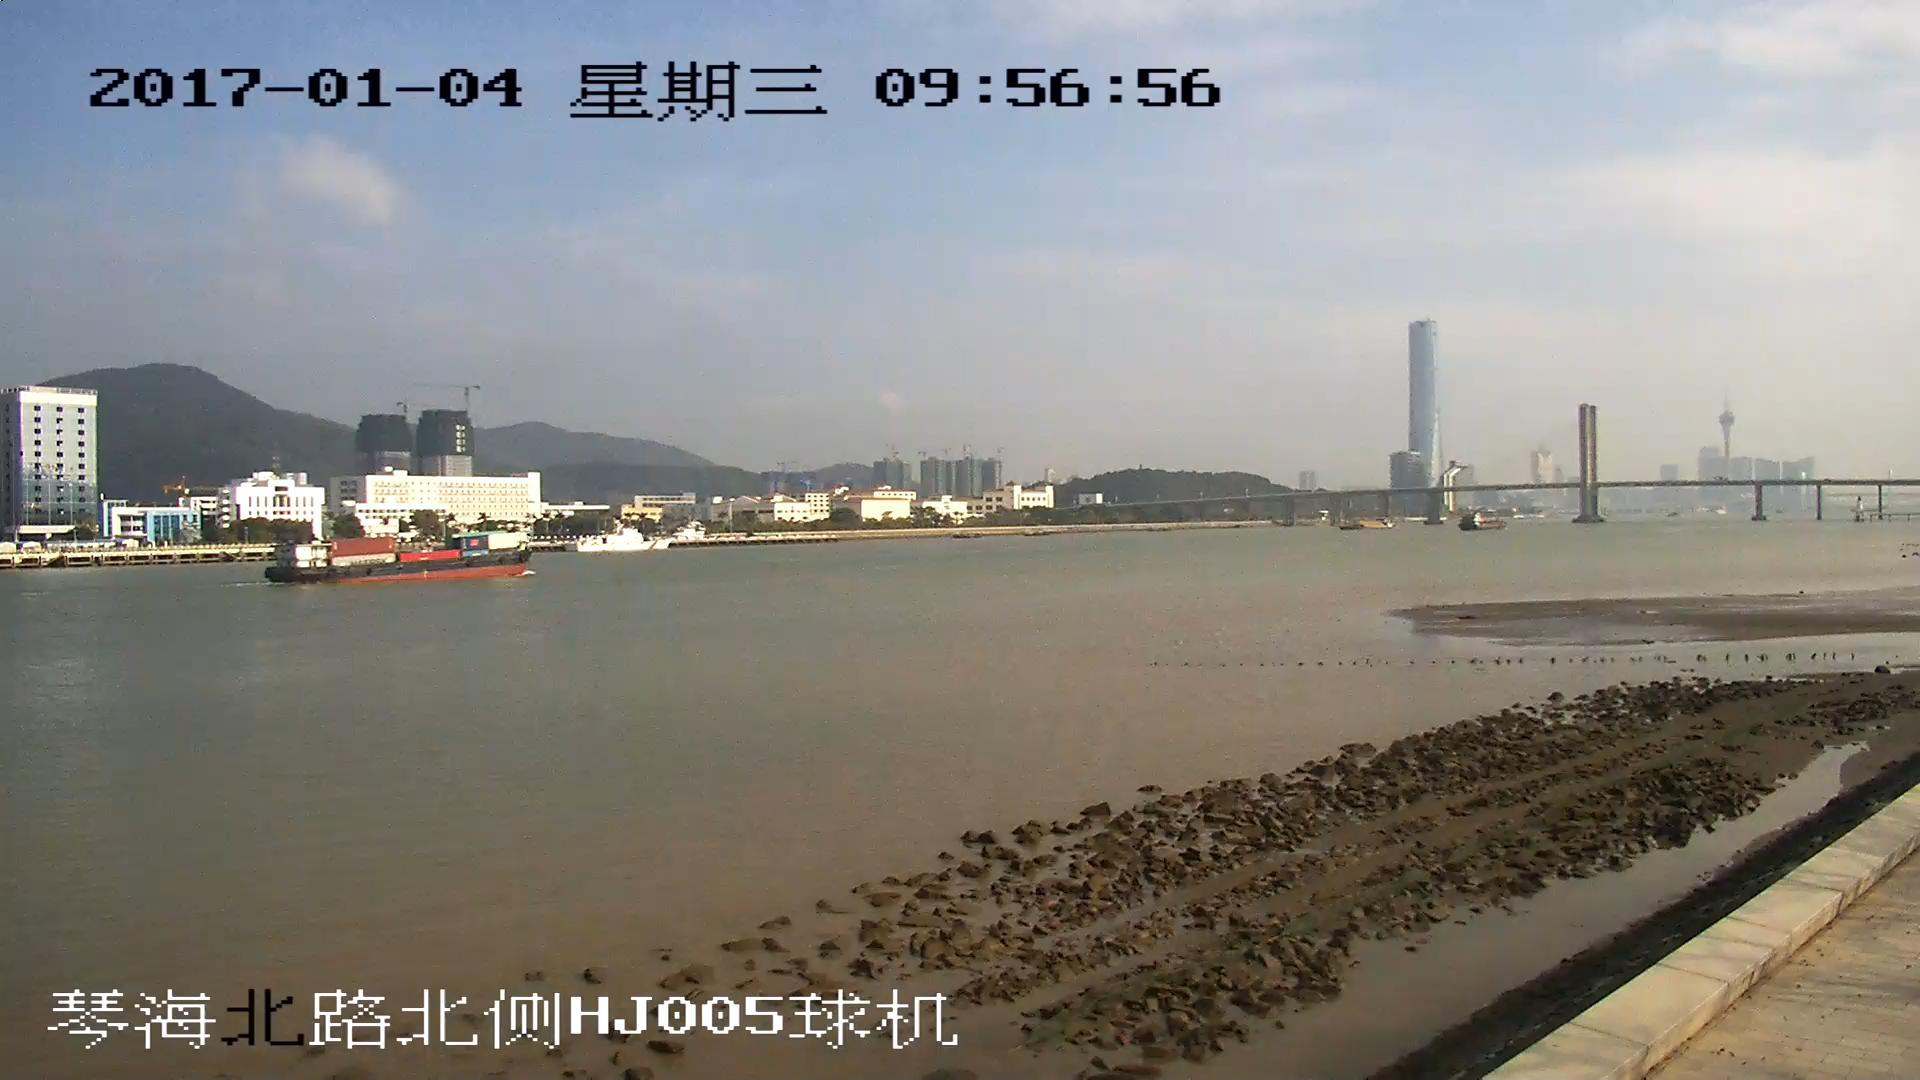Ship: (266, 539, 531, 585)
